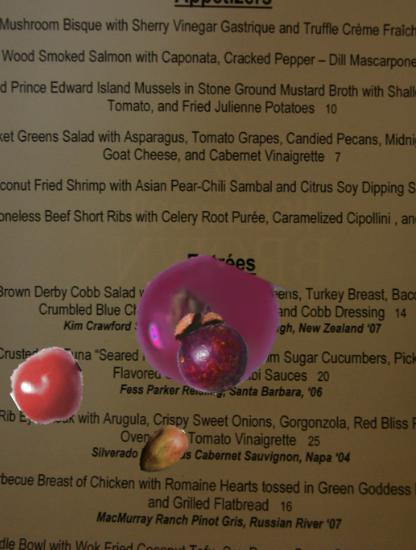Mangostan: (166, 305, 255, 394)
Papaya: (133, 421, 192, 480)
Redcurrant: (136, 255, 276, 395)
Tomato: (12, 350, 88, 426)
